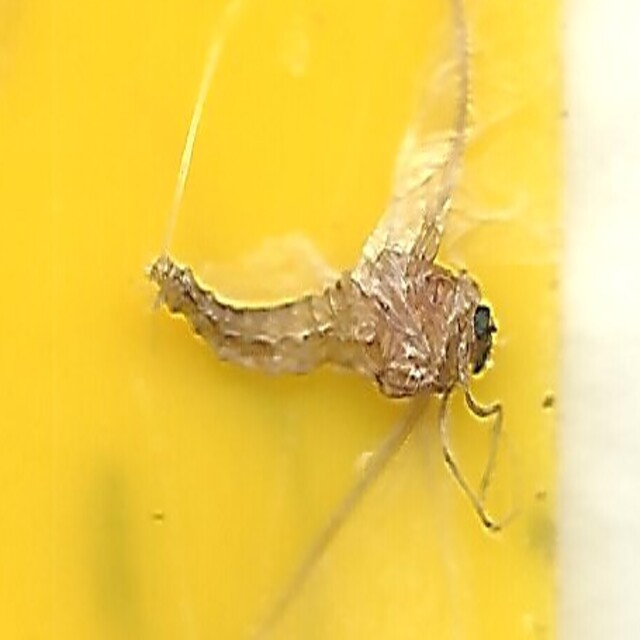Ephemeroptera: (141, 234, 499, 406)
